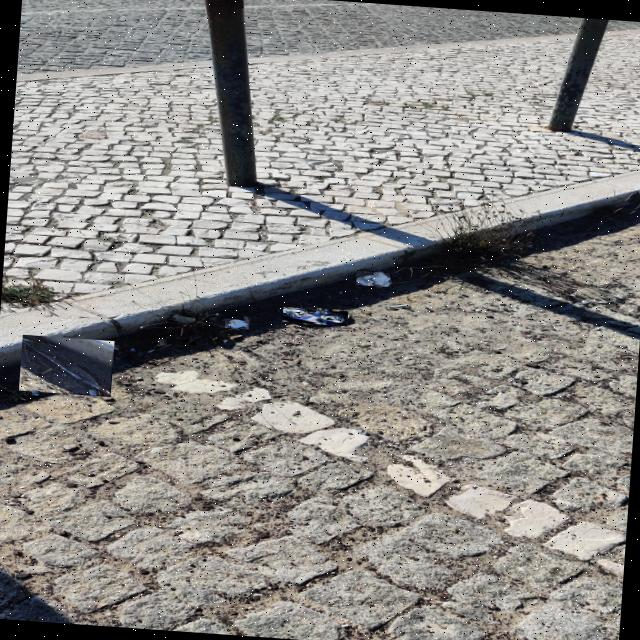Cigarette: (100, 344, 119, 350), (79, 372, 90, 380), (182, 339, 195, 345), (157, 339, 166, 346), (390, 305, 410, 308), (306, 308, 318, 312), (316, 309, 326, 313), (32, 388, 40, 393), (230, 335, 243, 338), (243, 317, 249, 323), (332, 309, 343, 311)
Drink can: (283, 308, 346, 324)
Normal paper: (169, 314, 193, 323), (225, 319, 248, 328)
Plastic film: (23, 336, 109, 395)
Pop tab: (287, 314, 300, 317)
Tissues: (356, 272, 389, 287)
